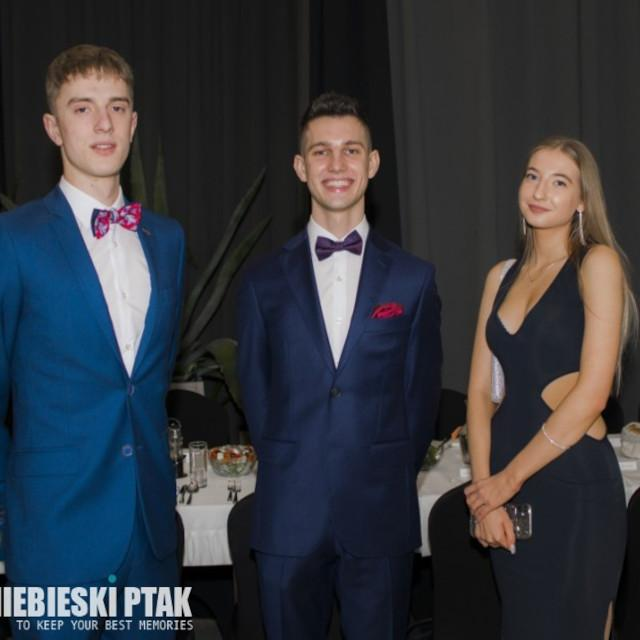kobieta: (462, 137, 631, 640)
mezczyzna: (234, 93, 446, 640), (0, 43, 188, 639)
